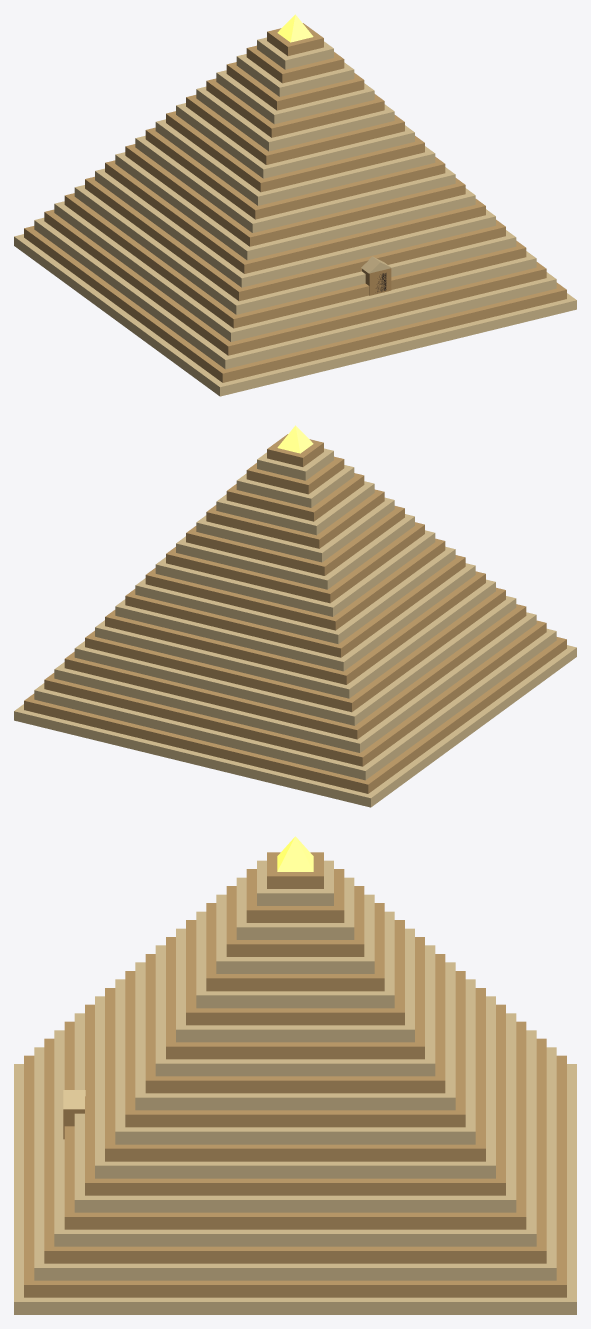
File: desert_pyramid.glb
The picture shows the model from 3 angles, top to bottom: view 1: azimuth 30°, elevation 25°; view 2: azimuth 150°, elevation 25°; view 3: azimuth 270°, elevation 25°; orthographic projection. The views are drawn at different scales.
Visible parts, largest first — view 1: desert_pyramid; view 2: desert_pyramid; view 3: desert_pyramid.
Boxes of the visible parts, bbox=[...] form: desert_pyramid: bbox=[14, 14, 576, 396]; desert_pyramid: bbox=[14, 425, 576, 807]; desert_pyramid: bbox=[14, 836, 576, 1314].
Size of the model in its own units: 40 by 28.2 by 40.
